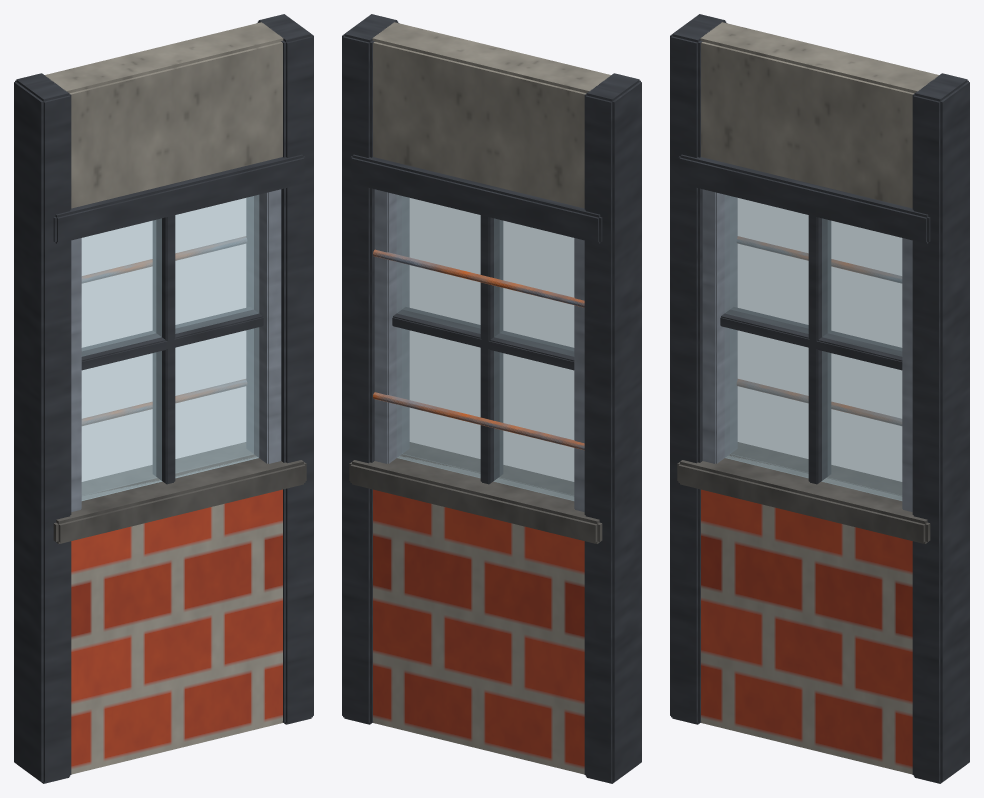
File: wall_window.glb
3 renders of one model, left to right at view 1: azimuth 30°, elevation 25°; view 2: azimuth 150°, elevation 25°; view 3: azimuth 330°, elevation 25°, orthographic.
Parts seen in each view (by area): view 1: wall_window; view 2: wall_window; view 3: wall_window.
Part boxes in pixels (x1=…): wall_window: x1=14, y1=14, x2=313, y2=783; wall_window: x1=342, y1=14, x2=641, y2=783; wall_window: x1=670, y1=14, x2=969, y2=783.
Bounding box in the file's own units: 1 × 2.4 × 0.24.
7 materials, 6 textured.
